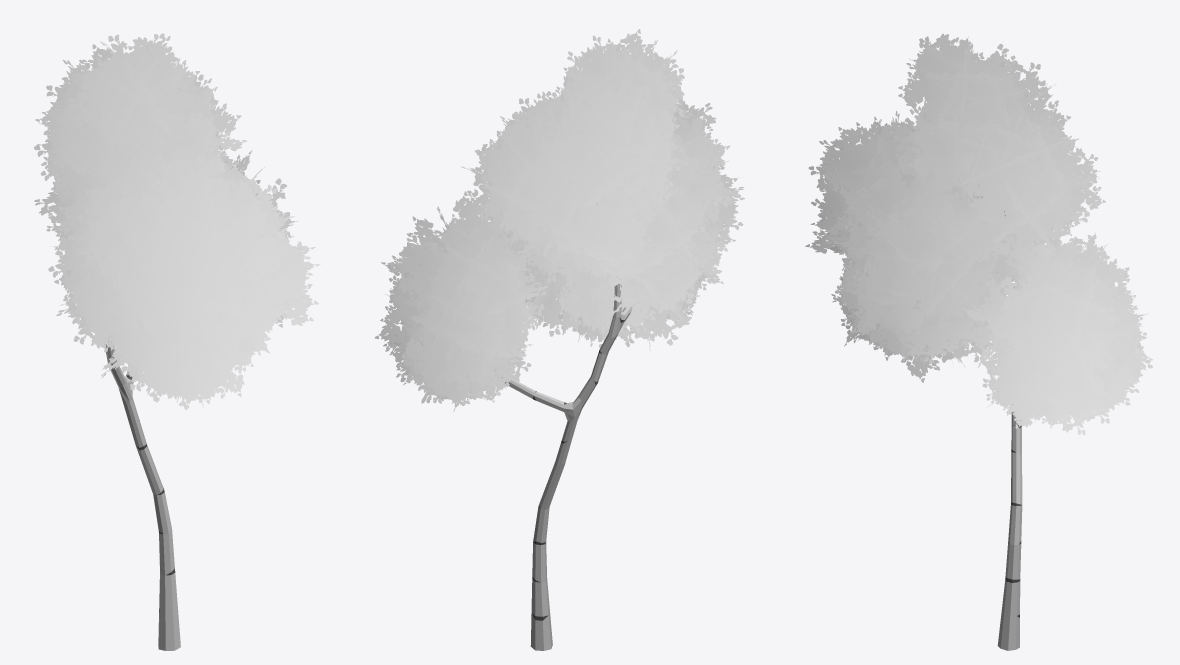
File: mesh_tree_birch_02.fbx
The picture shows the model from 3 angles, left to right: view 1: azimuth 30°, elevation 25°; view 2: azimuth 150°, elevation 25°; view 3: azimuth 270°, elevation 25°; orthographic projection. The views are drawn at different scales.
Parts seen in each view (by area): view 1: mesh_tree_birch_02_leaves_LOD0, mesh_tree_birch_02_trunk_LOD0; view 2: mesh_tree_birch_02_leaves_LOD0, mesh_tree_birch_02_trunk_LOD0; view 3: mesh_tree_birch_02_leaves_LOD0, mesh_tree_birch_02_trunk_LOD0.
Boxes of the visible parts, bbox=[...] form: mesh_tree_birch_02_leaves_LOD0: bbox=[34, 33, 320, 409]; mesh_tree_birch_02_trunk_LOD0: bbox=[106, 341, 180, 650]; mesh_tree_birch_02_leaves_LOD0: bbox=[374, 29, 744, 411]; mesh_tree_birch_02_trunk_LOD0: bbox=[502, 277, 634, 650]; mesh_tree_birch_02_leaves_LOD0: bbox=[805, 33, 1152, 435]; mesh_tree_birch_02_trunk_LOD0: bbox=[981, 196, 1022, 650].
Size of what is drawn, in the model's own units: 4.08 by 8.28 by 4.64.
